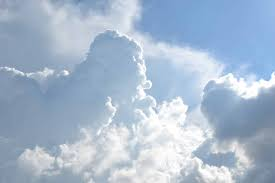sky: (2, 2, 273, 183)
